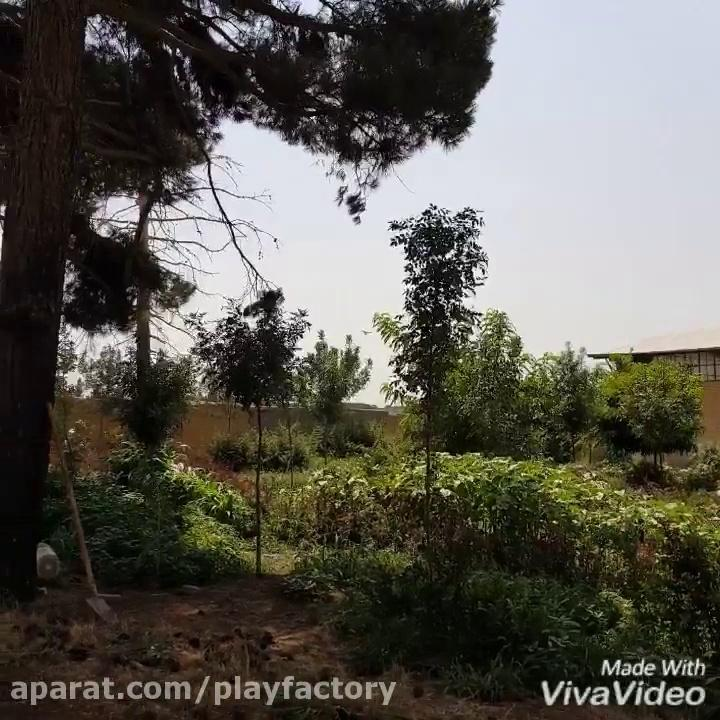drone: (356, 324, 375, 338)
